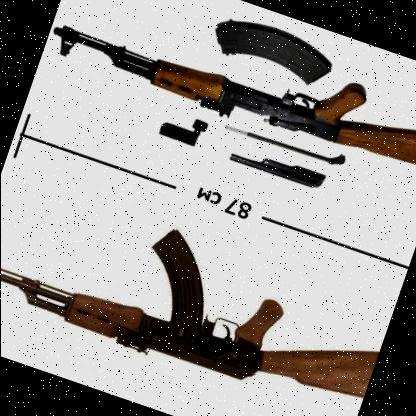rifle: (0, 158, 399, 416), (42, 0, 416, 208)
